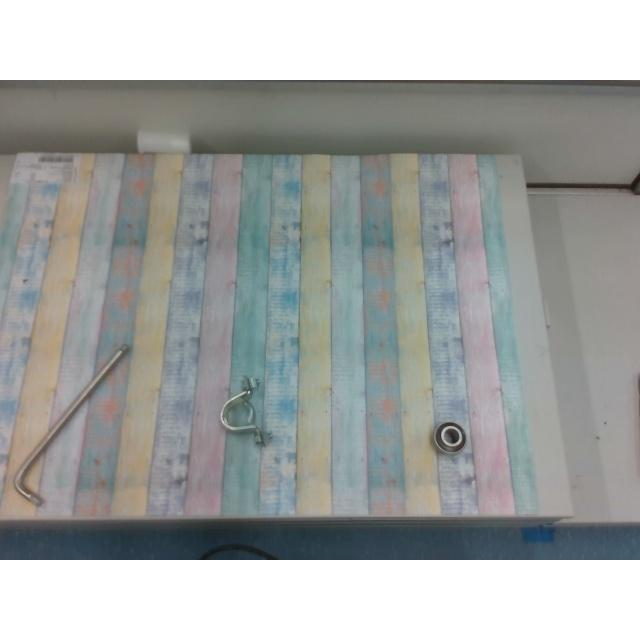AllenKey: (12, 344, 128, 506)
Bearing2: (432, 420, 468, 452)
Housing: (218, 376, 266, 444)
